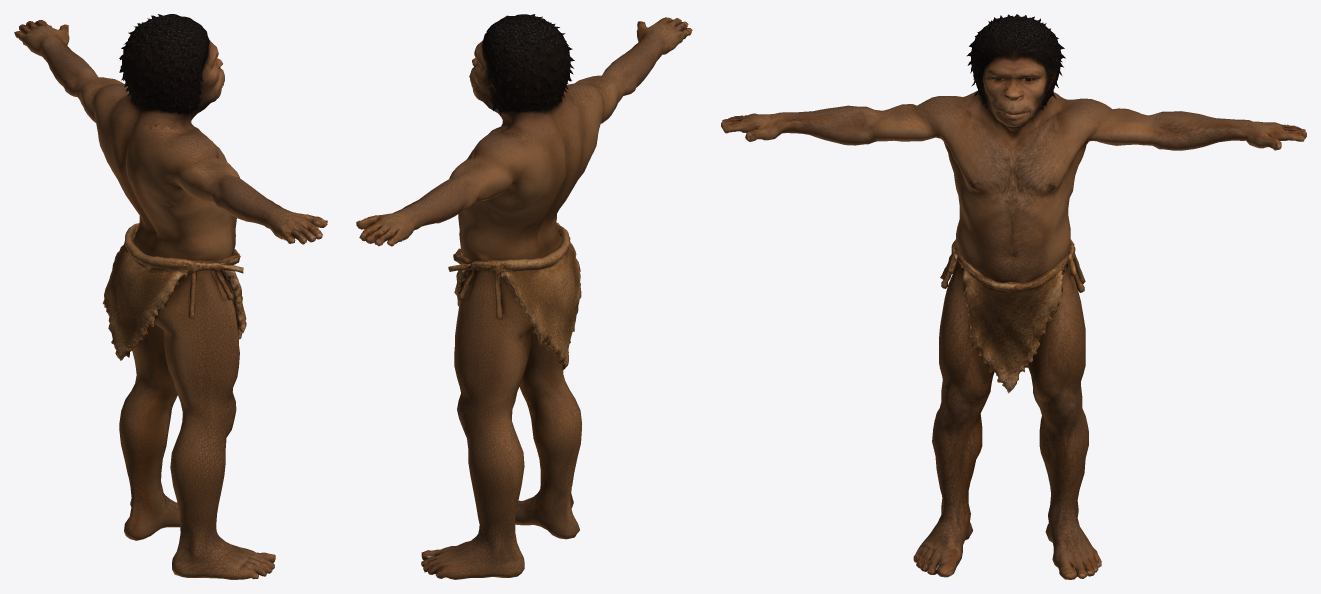
The model's file is pithecanthropus-hotspot.glb.
The picture shows the model from 3 angles, left to right: view 1: azimuth 30°, elevation 25°; view 2: azimuth 150°, elevation 25°; view 3: azimuth 270°, elevation 25°; orthographic projection. The views are drawn at different scales.
Visible parts, largest first — view 1: tripo_node_bb1c9875-8850-4cf5-9832-4ffa31dd18b2; view 2: tripo_node_bb1c9875-8850-4cf5-9832-4ffa31dd18b2; view 3: tripo_node_bb1c9875-8850-4cf5-9832-4ffa31dd18b2.
Part boxes in pixels (box(x1,y1,x2,y2)): tripo_node_bb1c9875-8850-4cf5-9832-4ffa31dd18b2: box(14, 14, 327, 579); tripo_node_bb1c9875-8850-4cf5-9832-4ffa31dd18b2: box(356, 14, 692, 579); tripo_node_bb1c9875-8850-4cf5-9832-4ffa31dd18b2: box(721, 14, 1306, 579).
Bounding box in the file's own units: 0.2363 × 0.9941 × 0.998.
1 material, 1 textured.
